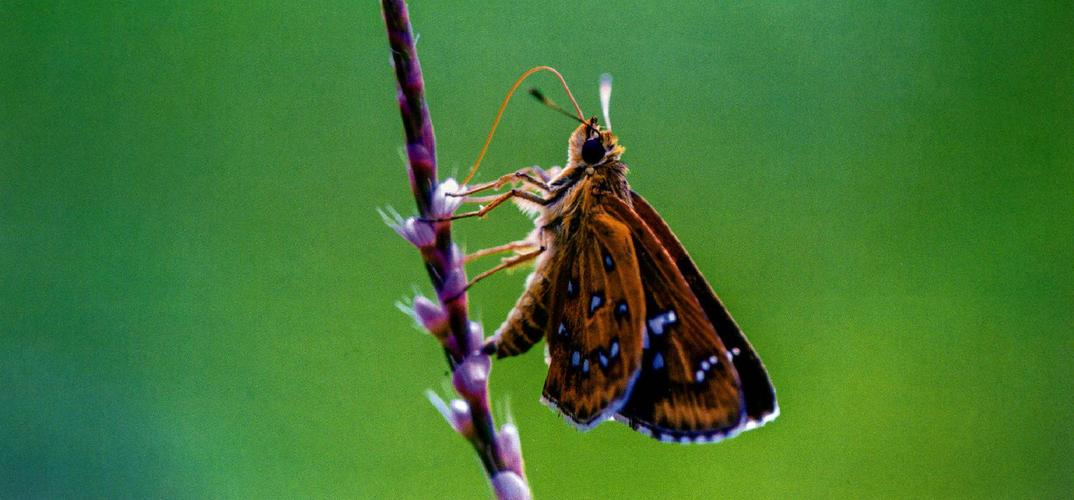Hesperiidae: (447, 57, 787, 448)
